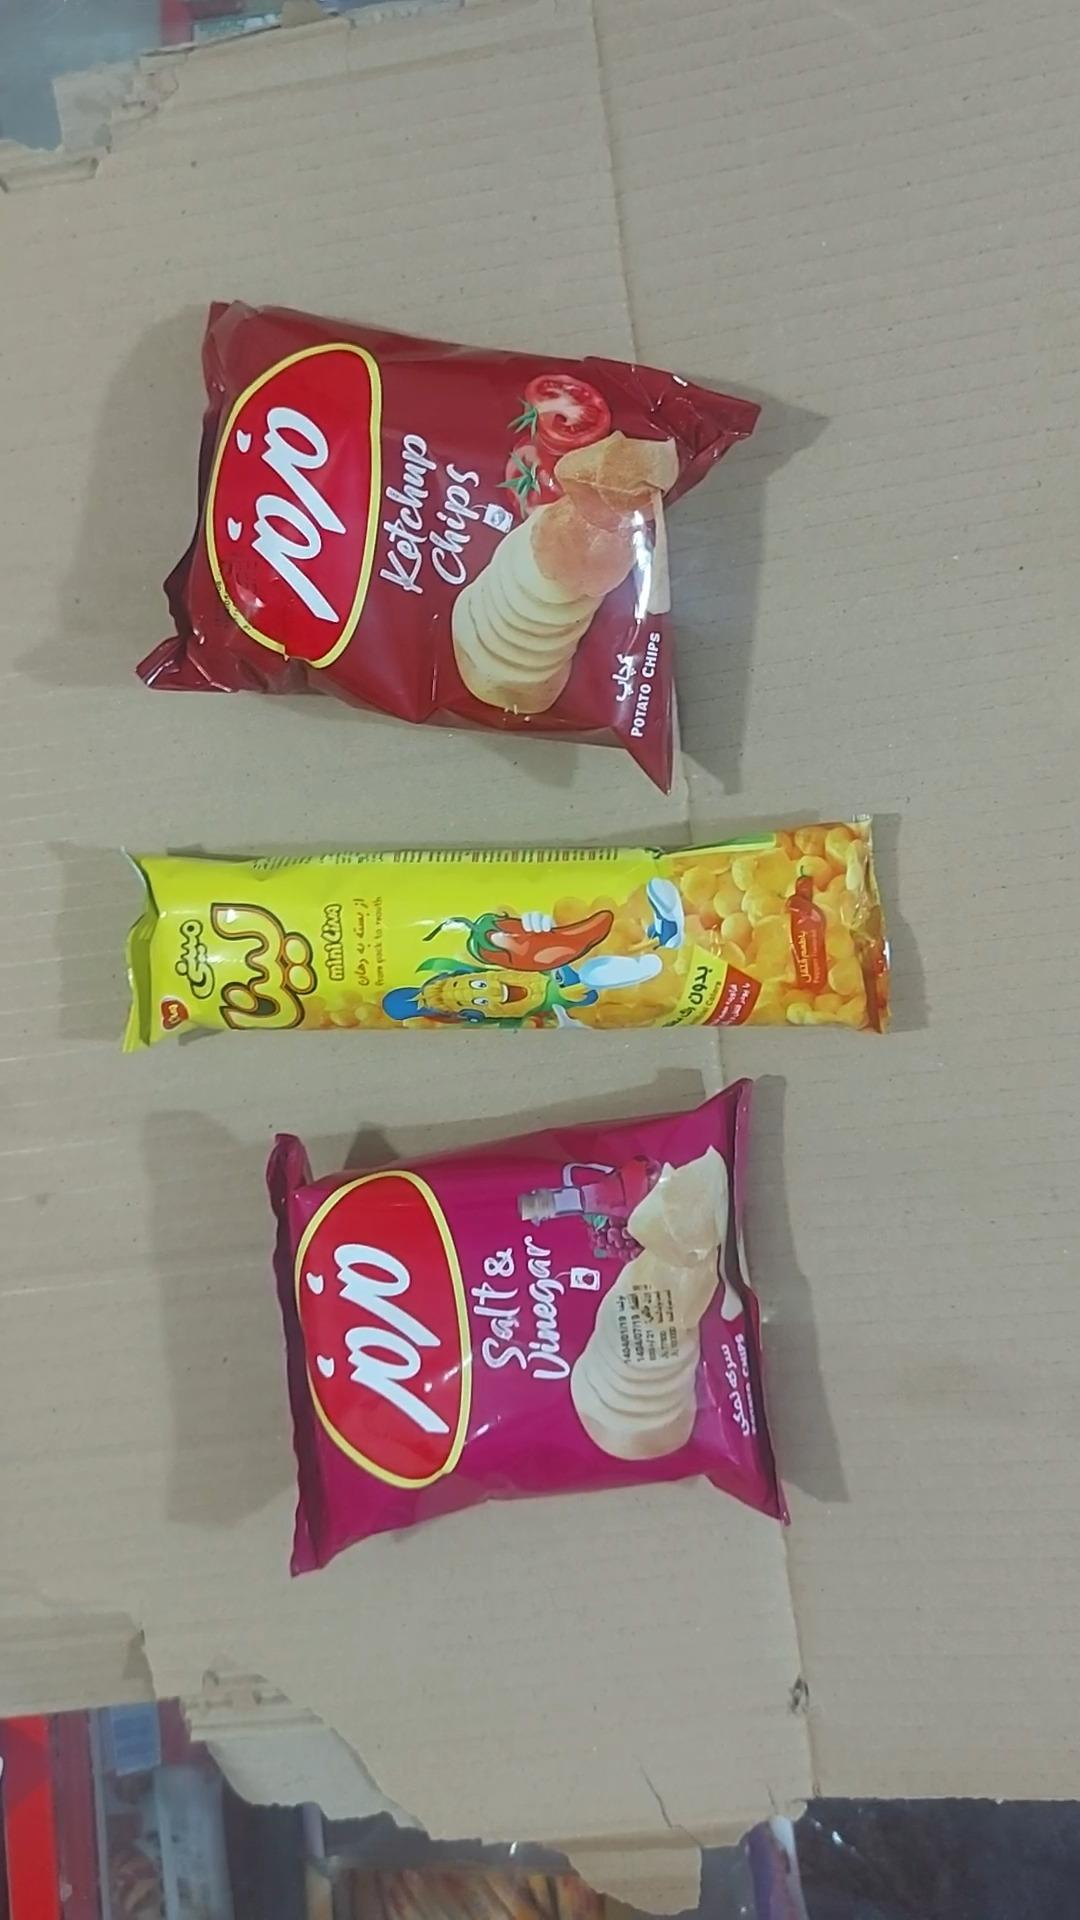Maz Maz ketchup chips: (138, 303, 760, 791)
Maz Maz vinegar chips: (266, 1081, 786, 1576)
Mini Lina: (123, 820, 889, 1050)
